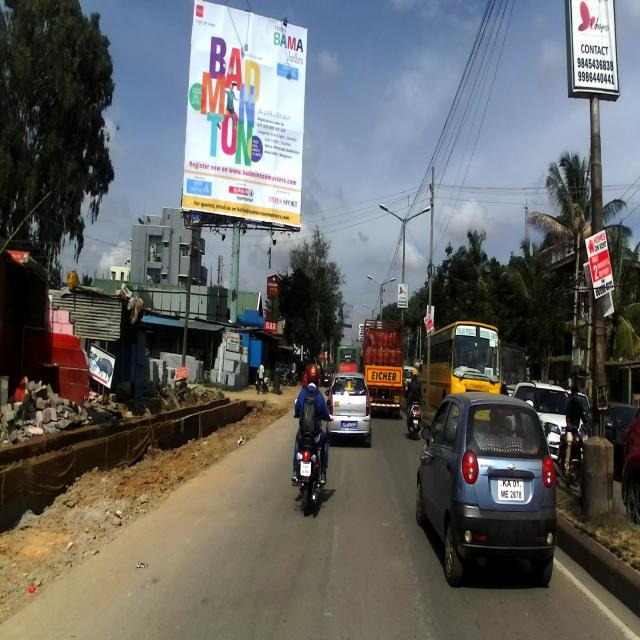Car_Chevrolet: (416, 391, 557, 589)
Car_TATA: (324, 369, 375, 451)
motorcycle_RoyalEnfield: (293, 394, 331, 516)
motorcycle_bajaj: (553, 422, 591, 492)
truck: (362, 318, 405, 414)
